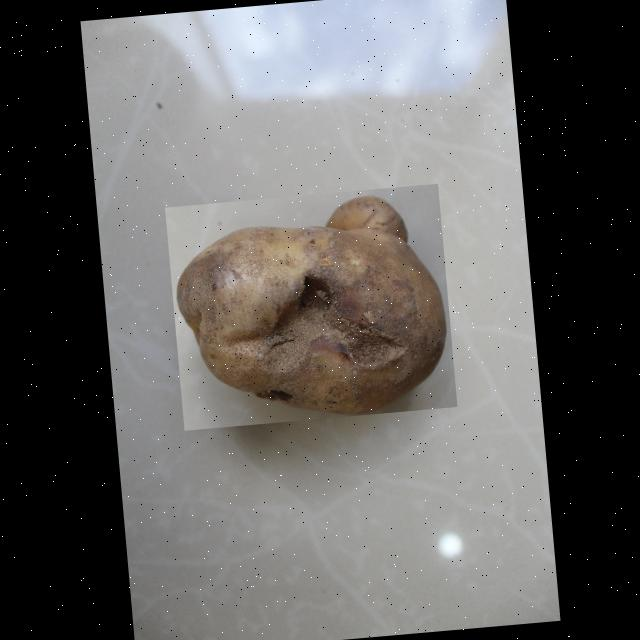Damaged potato: (165, 182, 456, 430)
